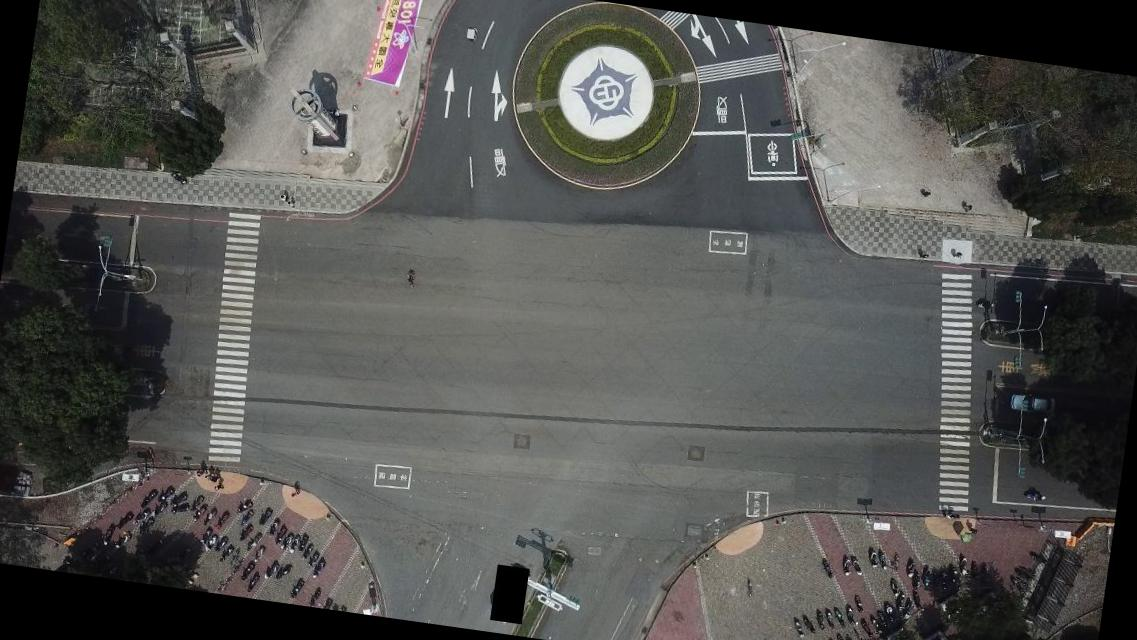vehicle: (1006, 392, 1059, 416)
